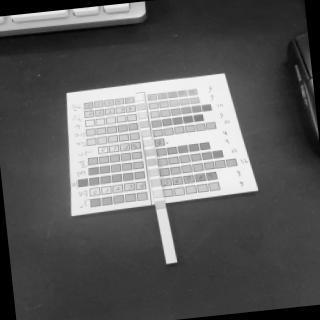mark: (155, 201, 166, 210), (153, 190, 163, 197), (150, 179, 160, 186), (148, 170, 158, 177), (140, 121, 149, 128), (148, 160, 158, 166), (146, 150, 156, 156), (144, 141, 154, 147), (136, 104, 146, 110), (136, 95, 145, 101), (142, 130, 150, 136), (139, 113, 147, 119)
